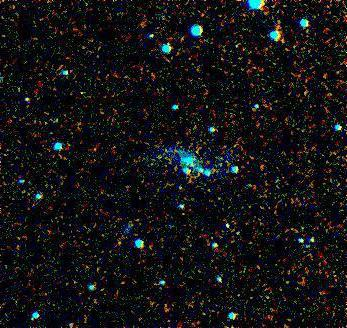star: (14, 303, 44, 328)
